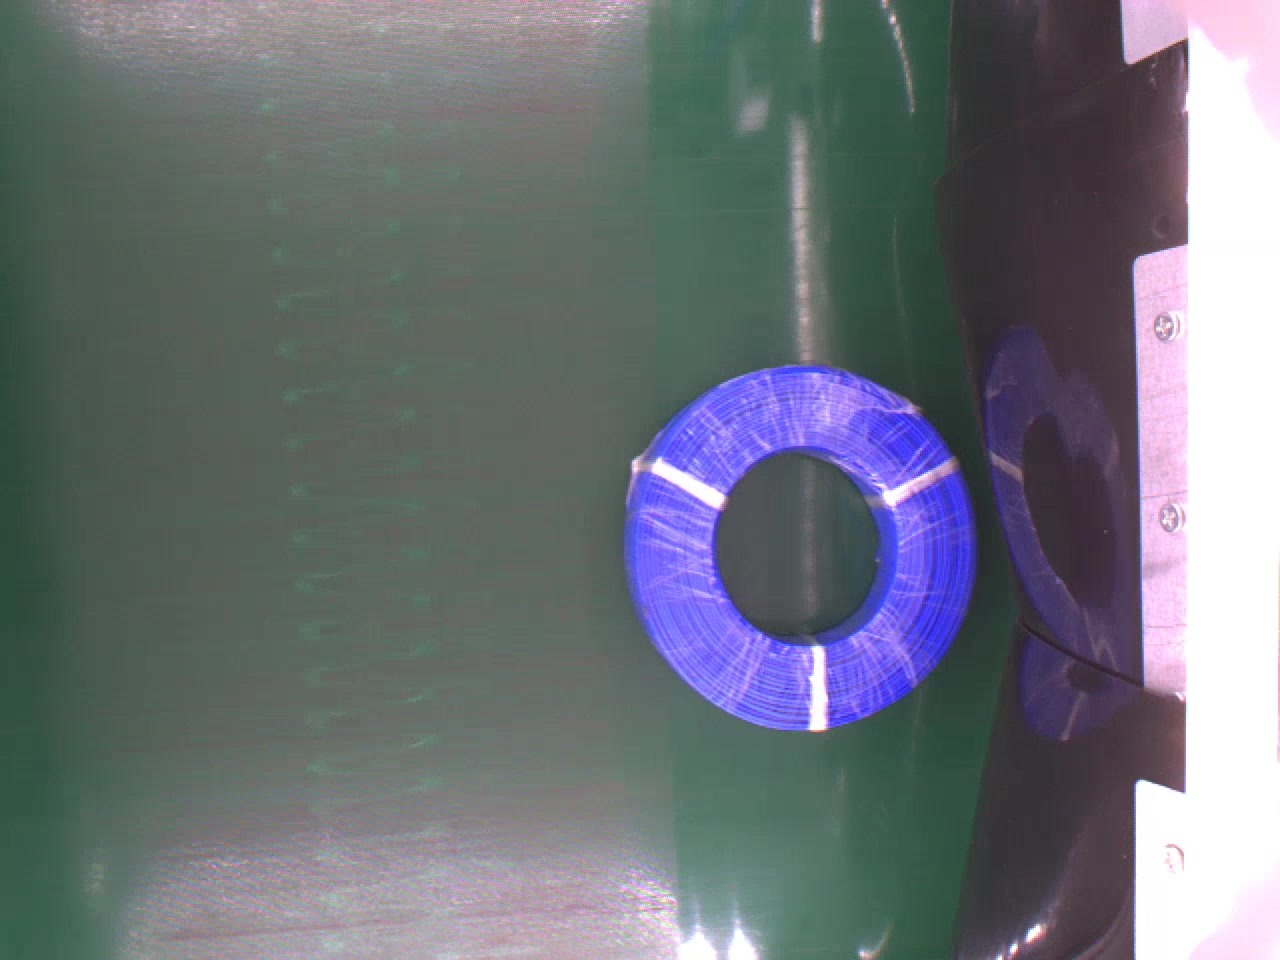blue: (626, 361, 976, 734)
